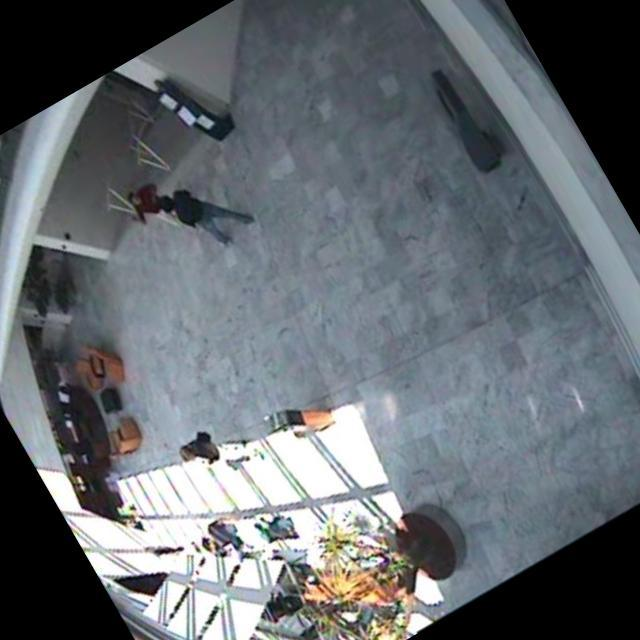person: (152, 158, 264, 274), (116, 170, 196, 262)
